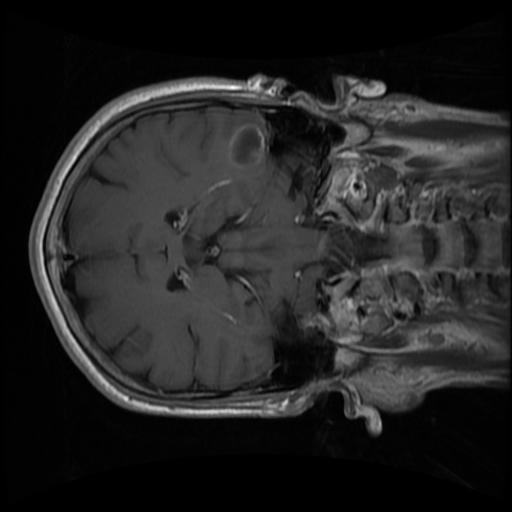glioma: (226, 122, 265, 173)
